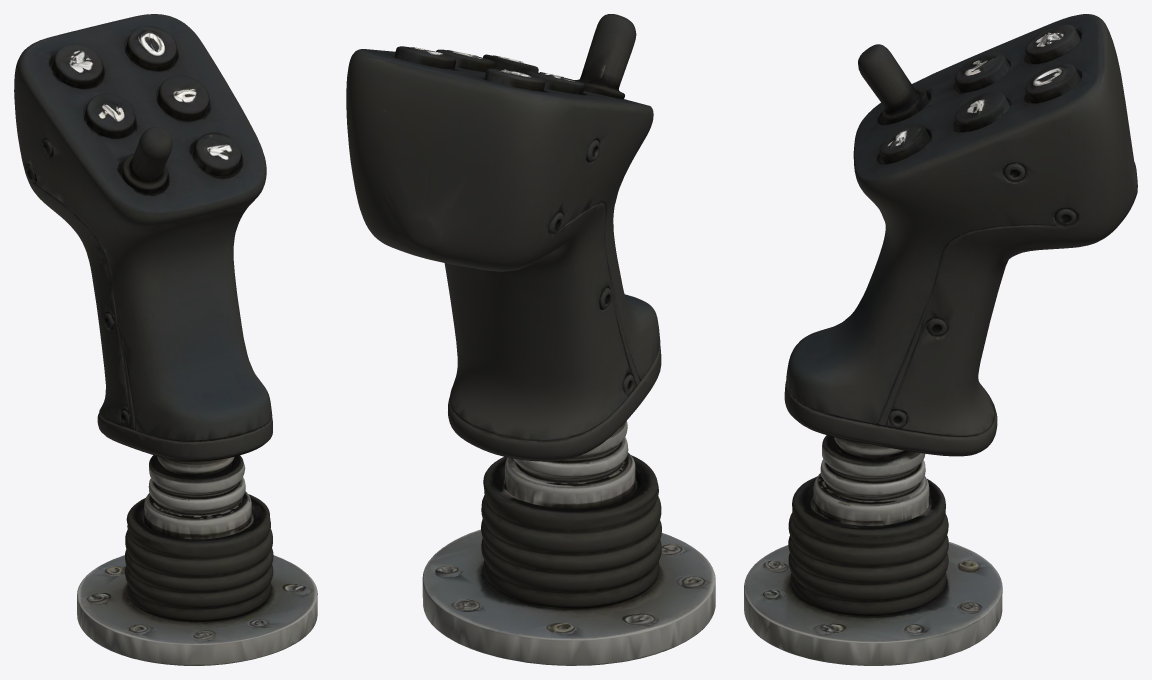
File: manche.glb
3 views of the same model, side by side, from view 1: azimuth 30°, elevation 25°; view 2: azimuth 150°, elevation 25°; view 3: azimuth 270°, elevation 25° (orthographic). The views are drawn at different scales.
Parts seen in each view (by area): view 1: node_0; view 2: node_0; view 3: node_0.
Boxes of the visible parts, <box> form: node_0: <box>14,14,317,665</box>; node_0: <box>346,14,715,665</box>; node_0: <box>744,14,1137,665</box>.
Bounding box in the file's own units: 0.4328 × 1.02 × 0.6465.
1 material, 1 textured.
